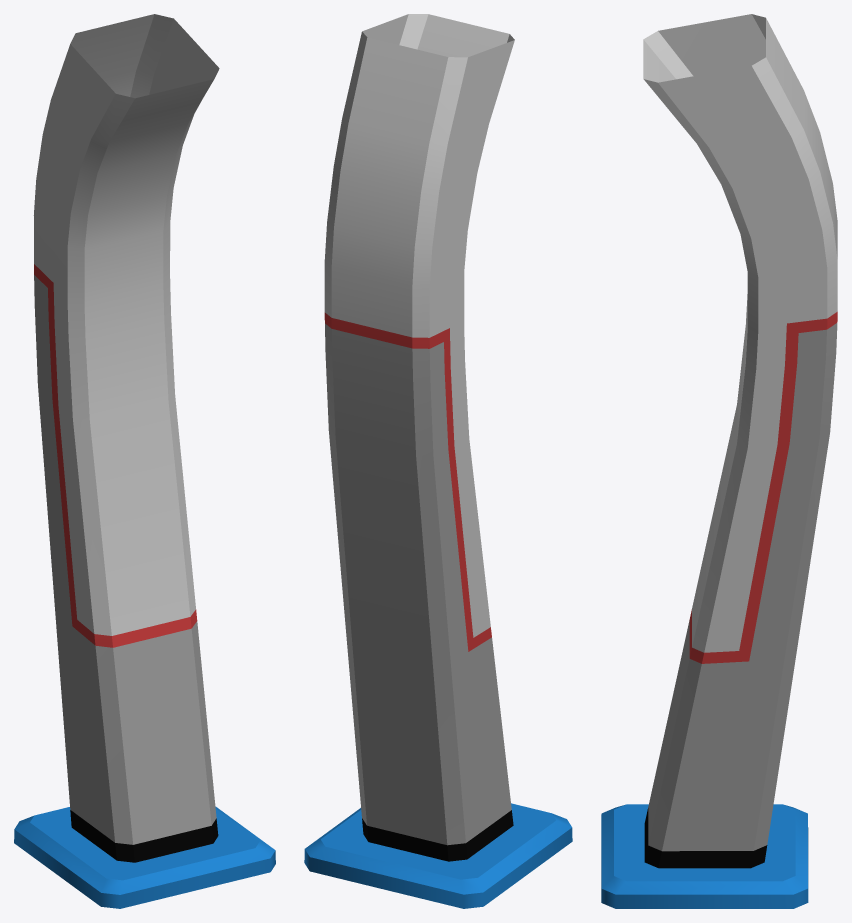
File: LS_Stand_4.fbx
3 views of the same model, side by side, from view 1: azimuth 30°, elevation 25°; view 2: azimuth 150°, elevation 25°; view 3: azimuth 270°, elevation 25° (orthographic). The views are drawn at different scales.
Visible parts, largest first — view 1: LS_Stand_4; view 2: LS_Stand_4; view 3: LS_Stand_4.
Part boxes in pixels (x1=…): LS_Stand_4: x1=14, y1=14, x2=275, y2=908; LS_Stand_4: x1=304, y1=14, x2=572, y2=908; LS_Stand_4: x1=601, y1=14, x2=837, y2=908.
Size of the model in its own units: 296 by 1307 by 339.
